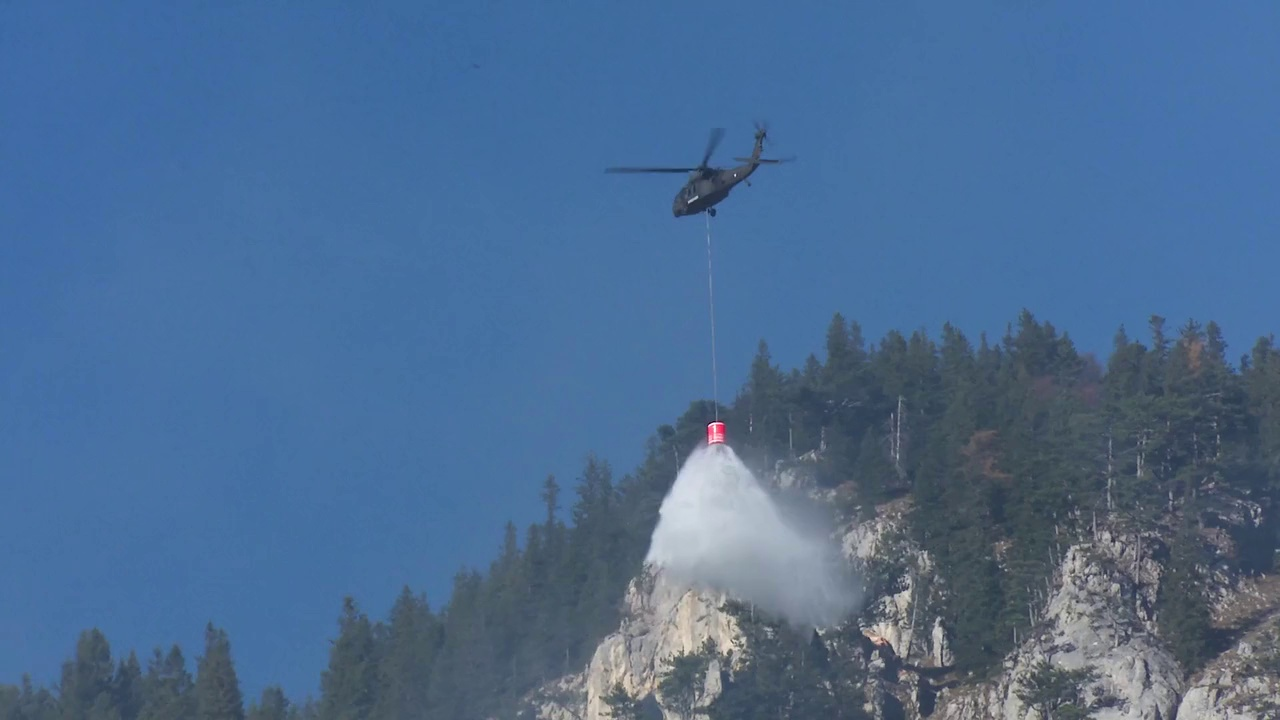heli: (600, 120, 781, 218)
